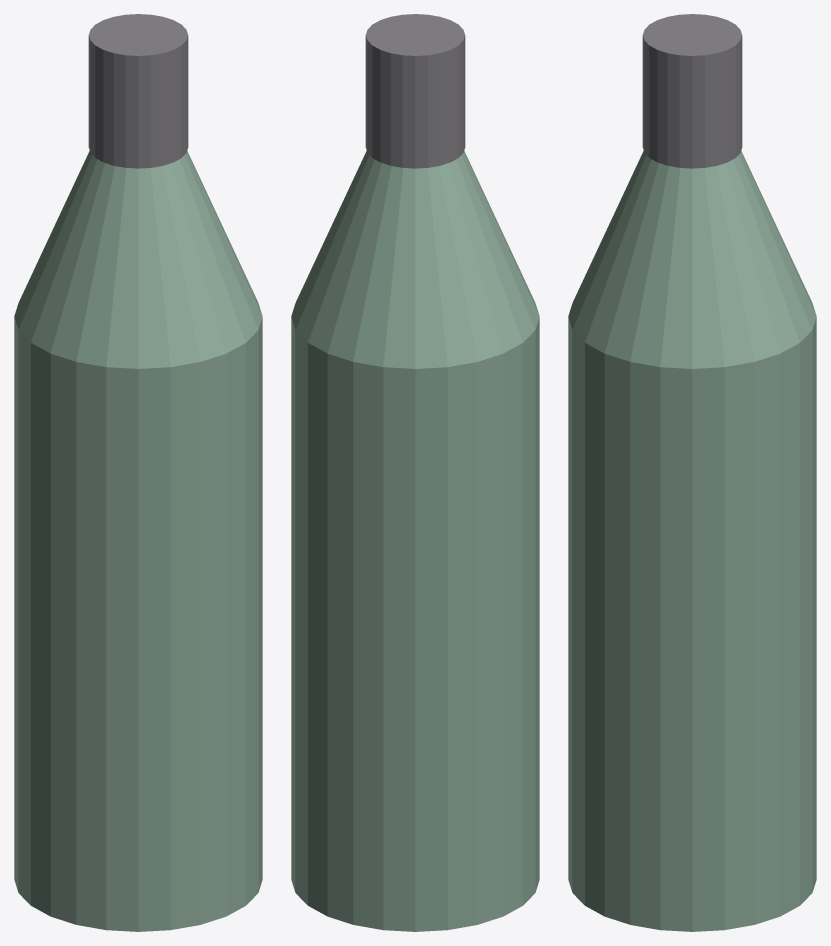
File: sketch_bottle.glb
3 renders of one model, left to right at view 1: azimuth 30°, elevation 25°; view 2: azimuth 150°, elevation 25°; view 3: azimuth 270°, elevation 25°, orthographic.
Parts seen in each view (by area): view 1: Cylinder, Cone, Cylinder.001; view 2: Cylinder, Cone, Cylinder.001; view 3: Cylinder, Cone, Cylinder.001.
Part boxes in pixels (x1,y1,x2,y2): Cylinder: [14, 317, 262, 931]; Cone: [14, 151, 262, 368]; Cylinder.001: [88, 14, 188, 168]; Cylinder: [291, 317, 539, 931]; Cone: [291, 151, 539, 368]; Cylinder.001: [365, 14, 465, 168]; Cylinder: [568, 317, 816, 931]; Cone: [568, 151, 816, 368]; Cylinder.001: [642, 14, 742, 168].
Size of the model in its own units: 0.08 by 0.3 by 0.08.
